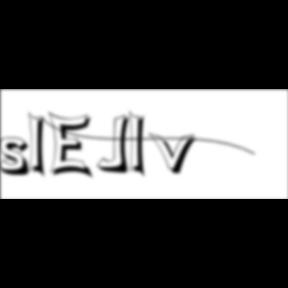E: (48, 110, 97, 182)
I: (28, 110, 52, 182)
J: (98, 114, 136, 176)
l: (130, 108, 152, 182)
s: (1, 137, 37, 179)
v: (149, 131, 203, 177)
